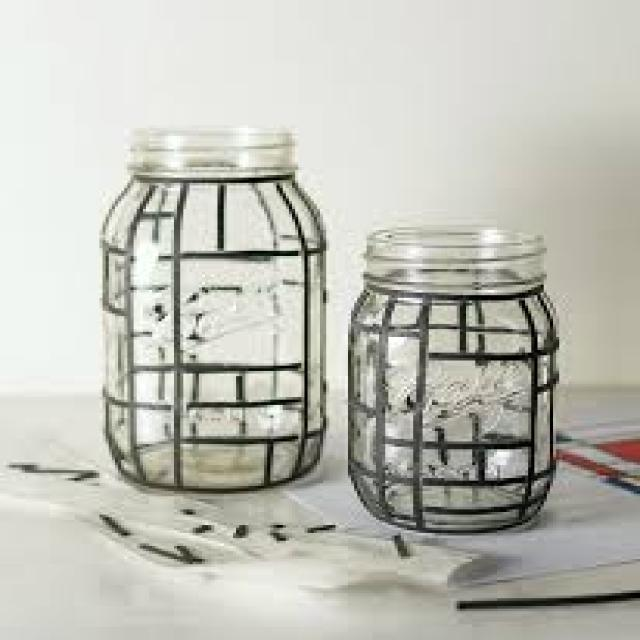Anorganik: (99, 123, 320, 491), (345, 224, 562, 536)
